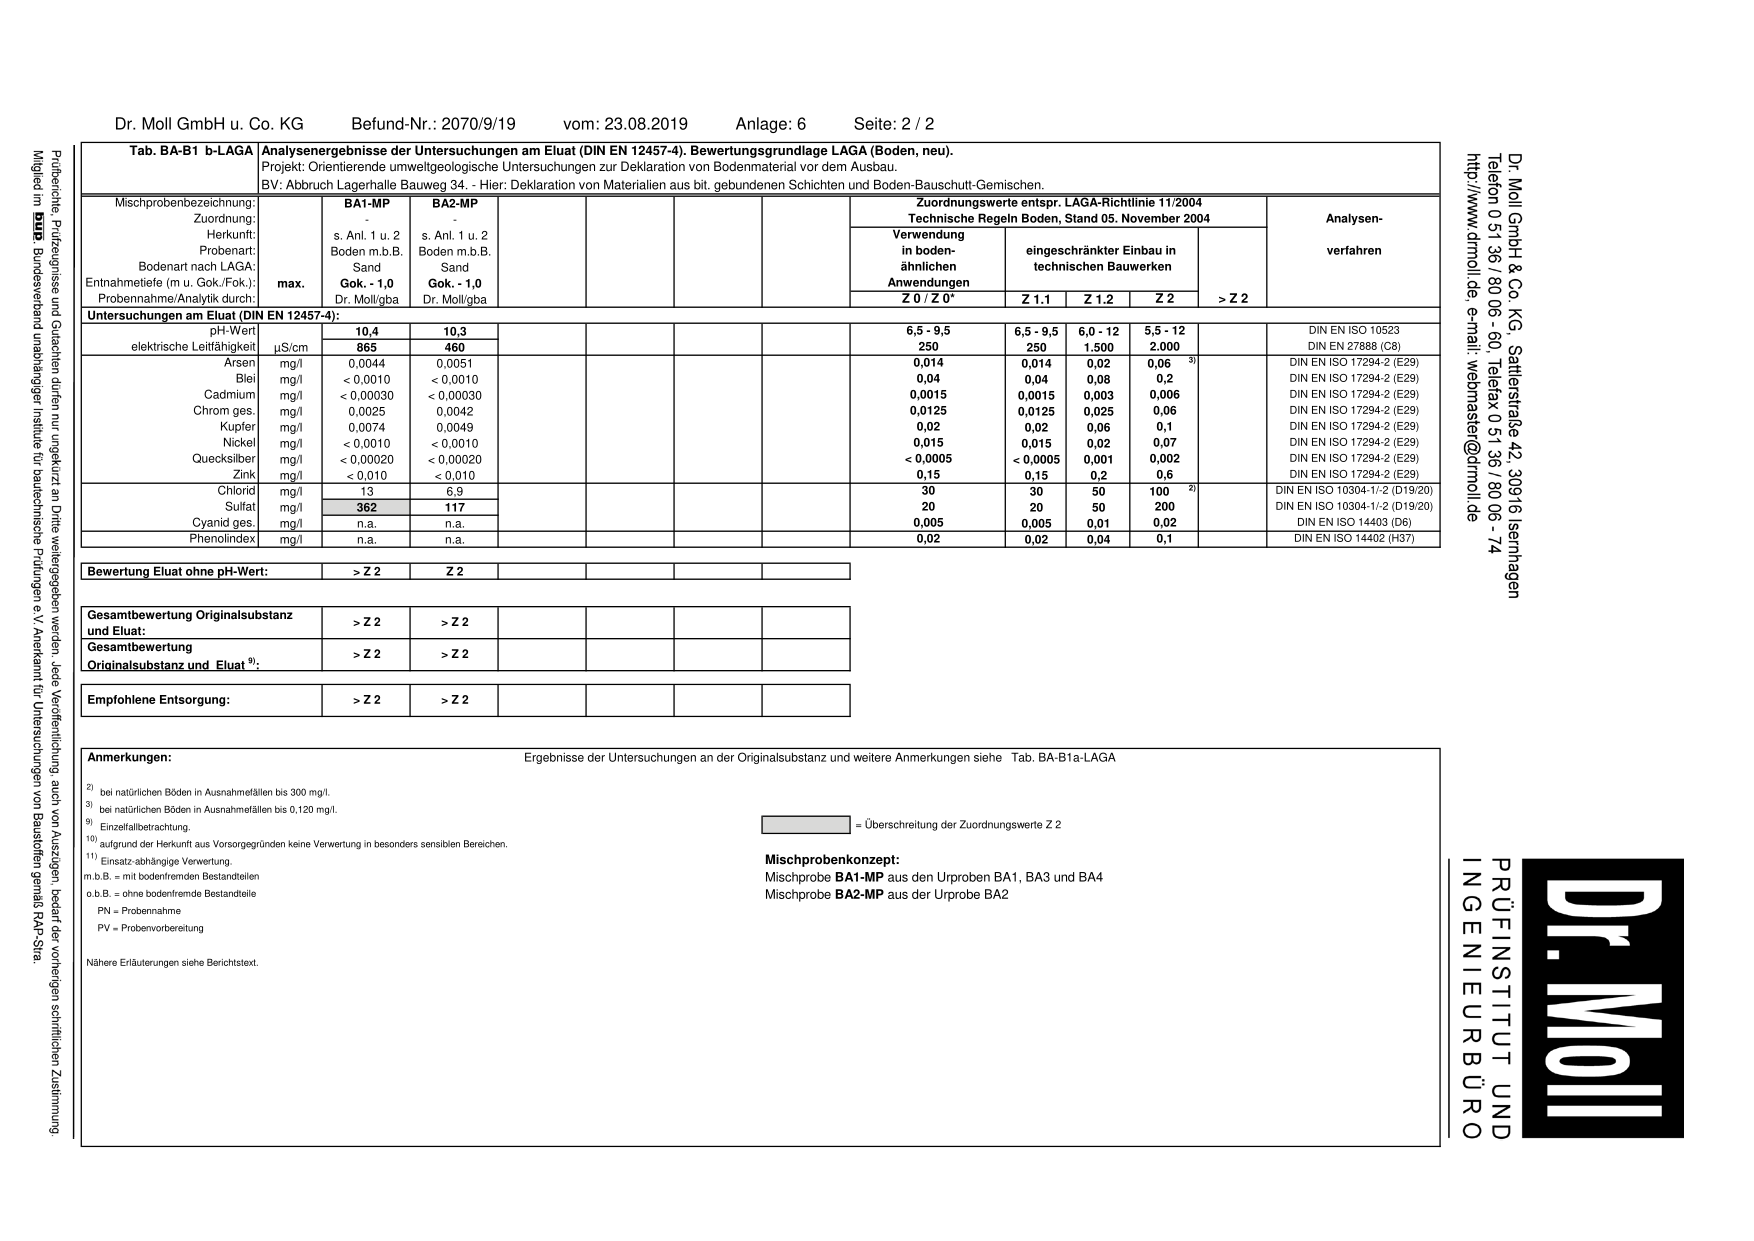table: (870, 322, 1437, 547), (118, 326, 501, 547)
